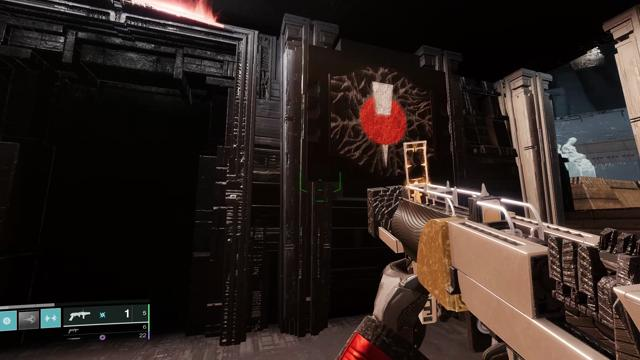kill: (330, 65, 436, 177)
